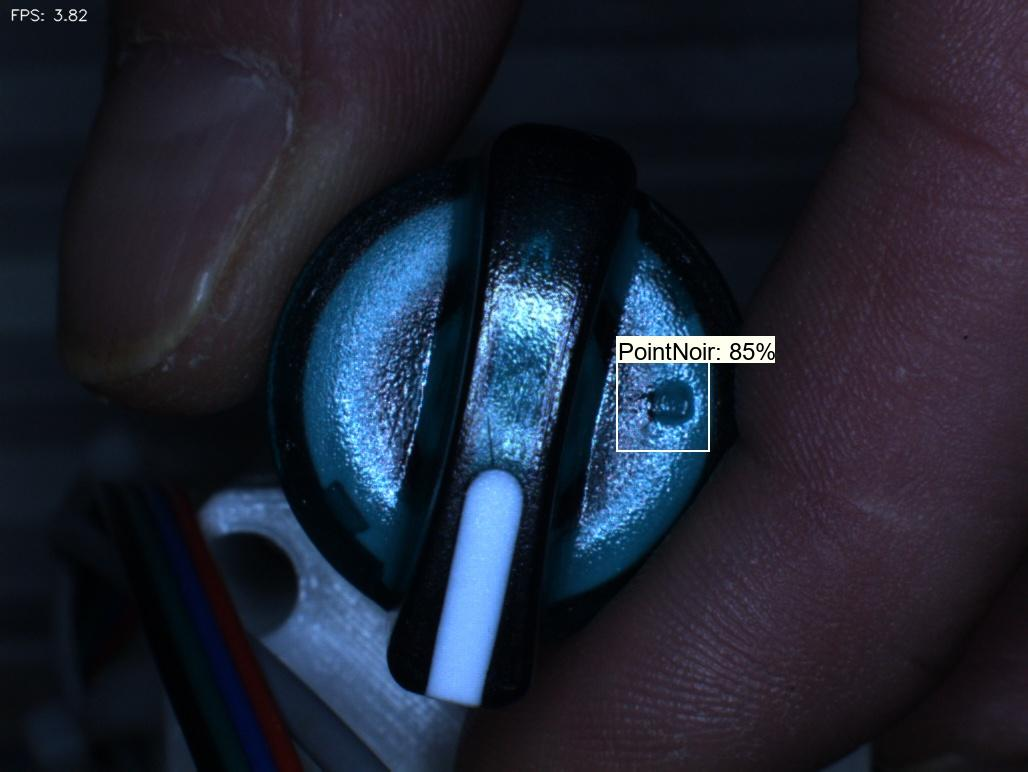Choc: (623, 358, 714, 458)
